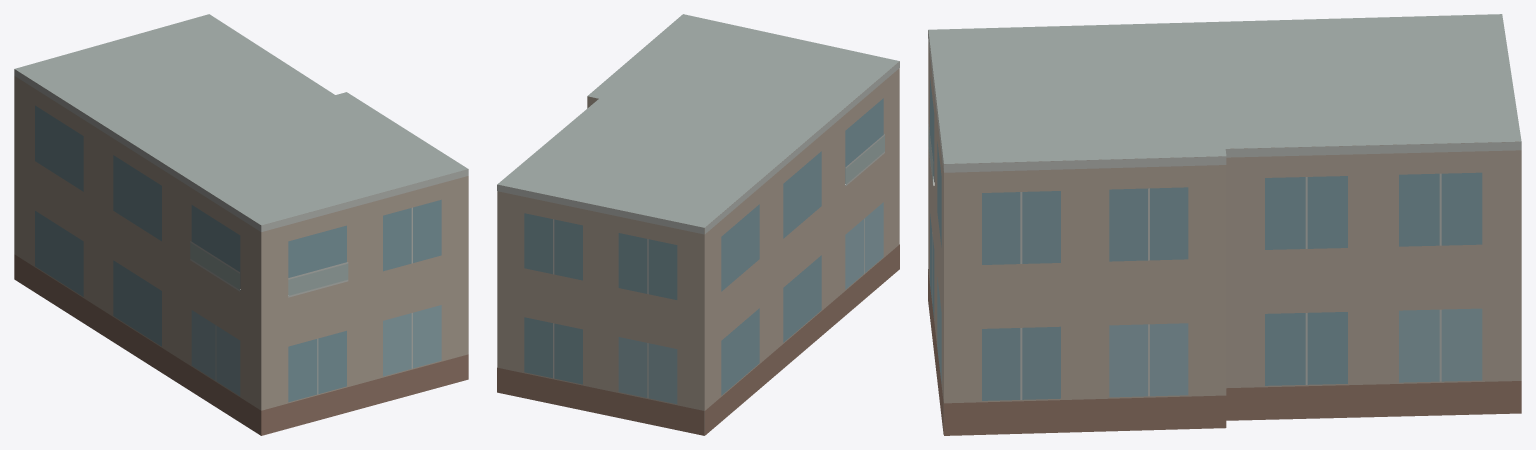
File: survey-upis-32737445.glb
The picture shows the model from 3 angles, left to right: view 1: azimuth 30°, elevation 25°; view 2: azimuth 150°, elevation 25°; view 3: azimuth 270°, elevation 25°; orthographic projection. The views are drawn at different scales.
Visible parts, largest first — view 1: survey-upis-32737445.tmp; view 2: survey-upis-32737445.tmp; view 3: survey-upis-32737445.tmp.
Part boxes in pixels (box(x1,y1,x2,y2)): survey-upis-32737445.tmp: box(14, 14, 468, 435); survey-upis-32737445.tmp: box(497, 14, 899, 435); survey-upis-32737445.tmp: box(928, 14, 1521, 435).
Size of the model in its own units: 9.01 by 7.6 by 15.05.
